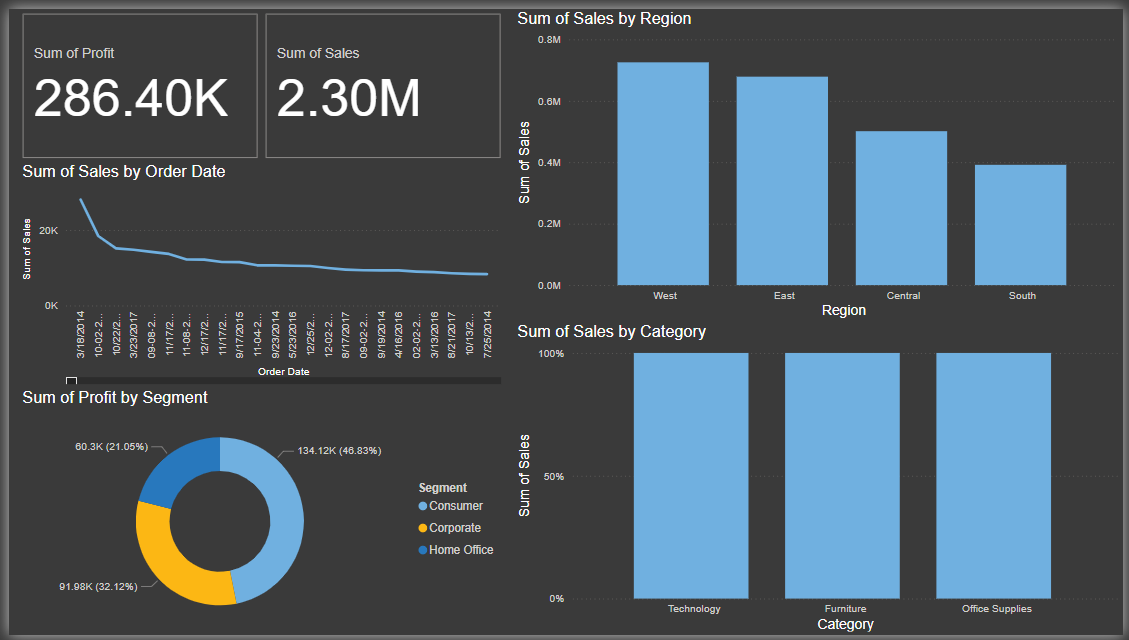

This screenshot's page, from the dashboard's own definition file:
{"tool":"powerbi","page":{"name":"Page 1","canvas":[1280,720],"ordinal":0},"visuals":[{"type":"cardVisual","fields":{"Data":["Sum(cleaned_superstore_data(1).Profit)"]},"box":[10,0,280,176.7],"z":0},{"type":"cardVisual","fields":{"Data":["Sum(cleaned_superstore_data(1).Sales)"]},"box":[290,0,280,176.7],"z":1},{"type":"clusteredColumnChart","fields":{"Category":["cleaned_superstore_data(1).Region"],"Y":["Sum(cleaned_superstore_data(1).Sales)"]},"box":[579.3,0,700,360.3],"z":3},{"type":"lineChart","fields":{"Category":["cleaned_superstore_data(1).Order Date"],"Y":["Sum(cleaned_superstore_data(1).Sales)"]},"box":[10,176.7,560,260],"z":4},{"type":"hundredPercentStackedColumnChart","fields":{"Y":["Sum(cleaned_superstore_data(1).Sales)"],"Category":["cleaned_superstore_data(1).Category"]},"box":[580,360,700,360],"z":5},{"type":"donutChart","fields":{"Category":["cleaned_superstore_data(1).Segment"],"Y":["Sum(cleaned_superstore_data(1).Profit)"]},"box":[10.3,436.2,560.3,284.5],"z":6}]}

Visuals, with their boxes in screenshot pixels (x1, y1, x2, y2), scaled from the page's 1280x720 canvas onto the 1129x640 screenshot:
cardVisual - Sum(cleaned_superstore_data(1).Profit): x1=9, y1=0, x2=256, y2=157
cardVisual - Sum(cleaned_superstore_data(1).Sales): x1=256, y1=0, x2=503, y2=157
clusteredColumnChart - cleaned_superstore_data(1).Region x Sum(cleaned_superstore_data(1).Sales): x1=511, y1=0, x2=1128, y2=320
lineChart - cleaned_superstore_data(1).Order Date x Sum(cleaned_superstore_data(1).Sales): x1=9, y1=157, x2=503, y2=388
hundredPercentStackedColumnChart - Sum(cleaned_superstore_data(1).Sales) x cleaned_superstore_data(1).Category: x1=512, y1=320, x2=1128, y2=639
donutChart - cleaned_superstore_data(1).Segment x Sum(cleaned_superstore_data(1).Profit): x1=9, y1=388, x2=503, y2=639
